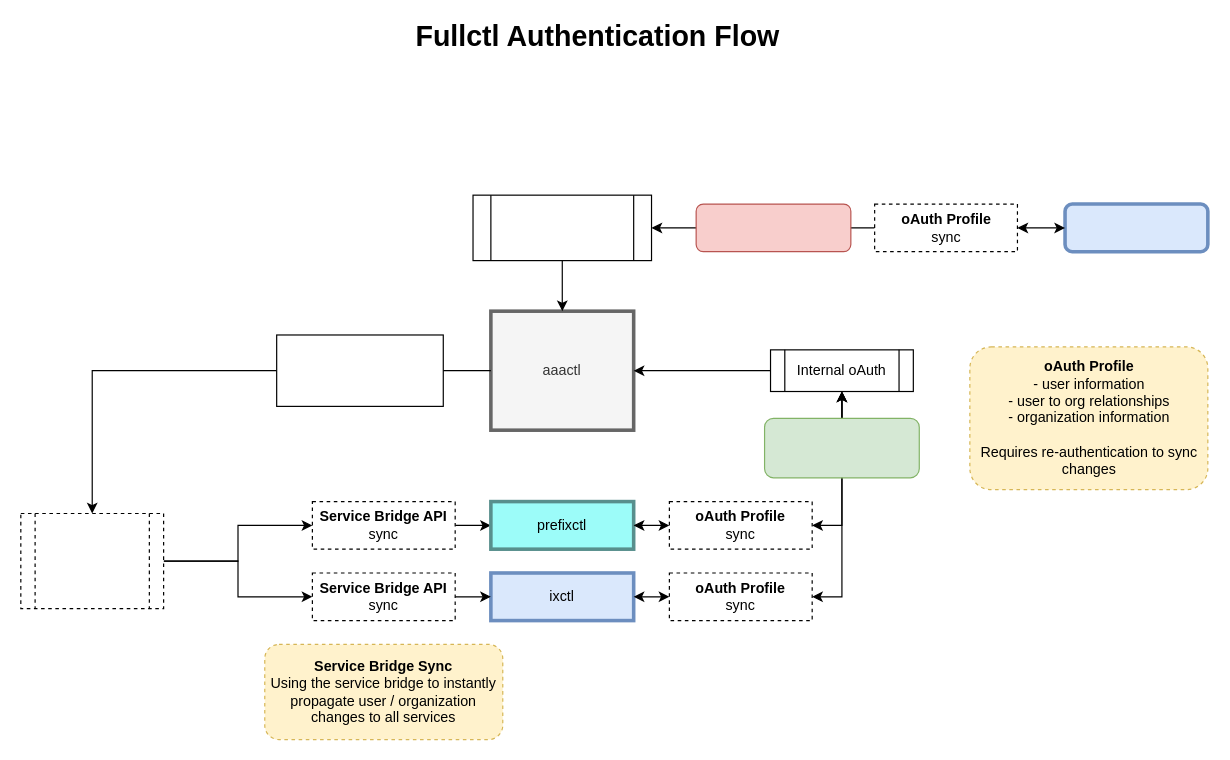
The diagram is 1230 pixels wide and 760 high, and some of its shapes have lost their labels. The centre of each missing label's shape, as x and y in pixels:
aaactl Task Queue: point 92,560
Not Trusted Confirmation Required: point 773,227
Organization managed oAuth: point 562,227
third party service: point 1136,227
Trusted No Confirmation Needed: point 841,447
user / org information changes: point 359,370
